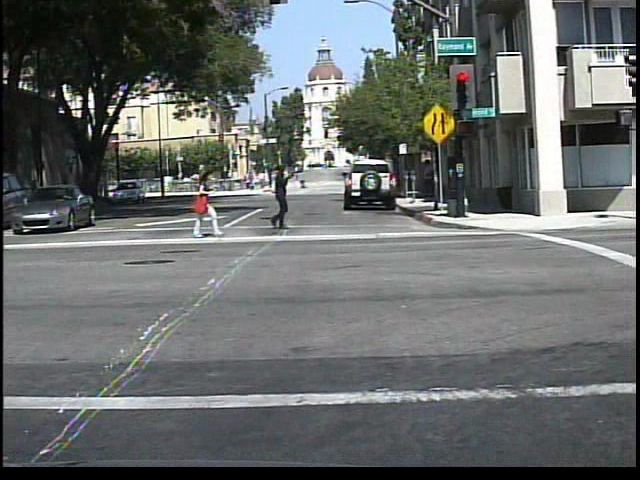person: (184, 165, 226, 241), (259, 160, 299, 233), (273, 171, 289, 192), (299, 175, 308, 192)
